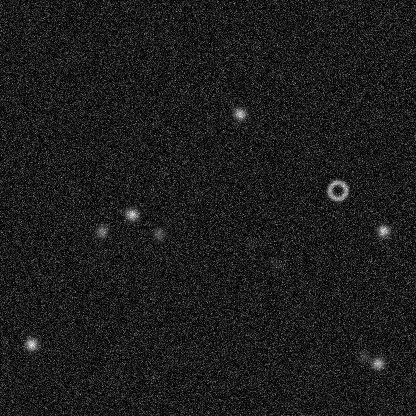Ring: (325, 178, 349, 202)
Spot: (268, 256, 284, 272), (242, 234, 258, 250), (150, 225, 166, 241), (231, 105, 247, 121), (93, 223, 109, 239), (369, 355, 385, 371), (375, 222, 391, 238), (23, 336, 39, 352), (123, 206, 139, 222), (355, 347, 371, 363)
